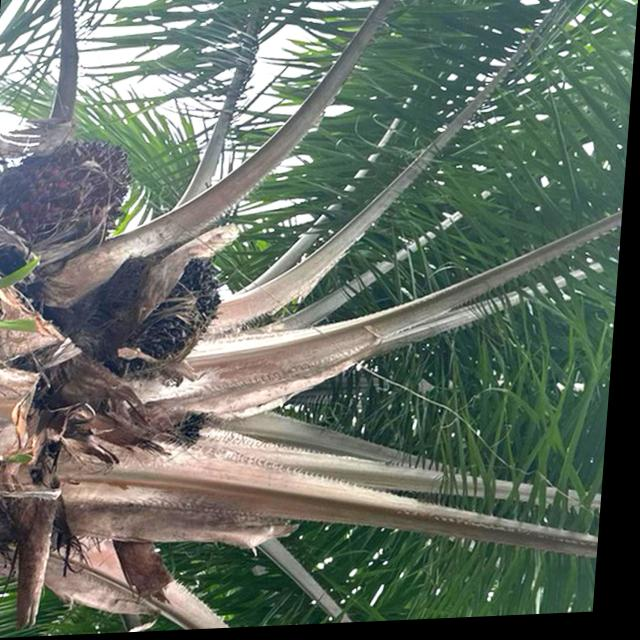unripe: (72, 245, 233, 378)
